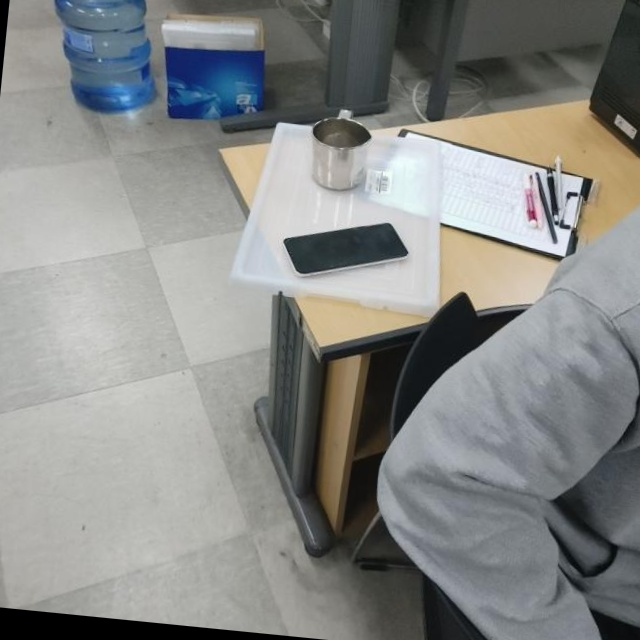cup: (302, 103, 377, 196)
phone: (277, 212, 415, 289)
